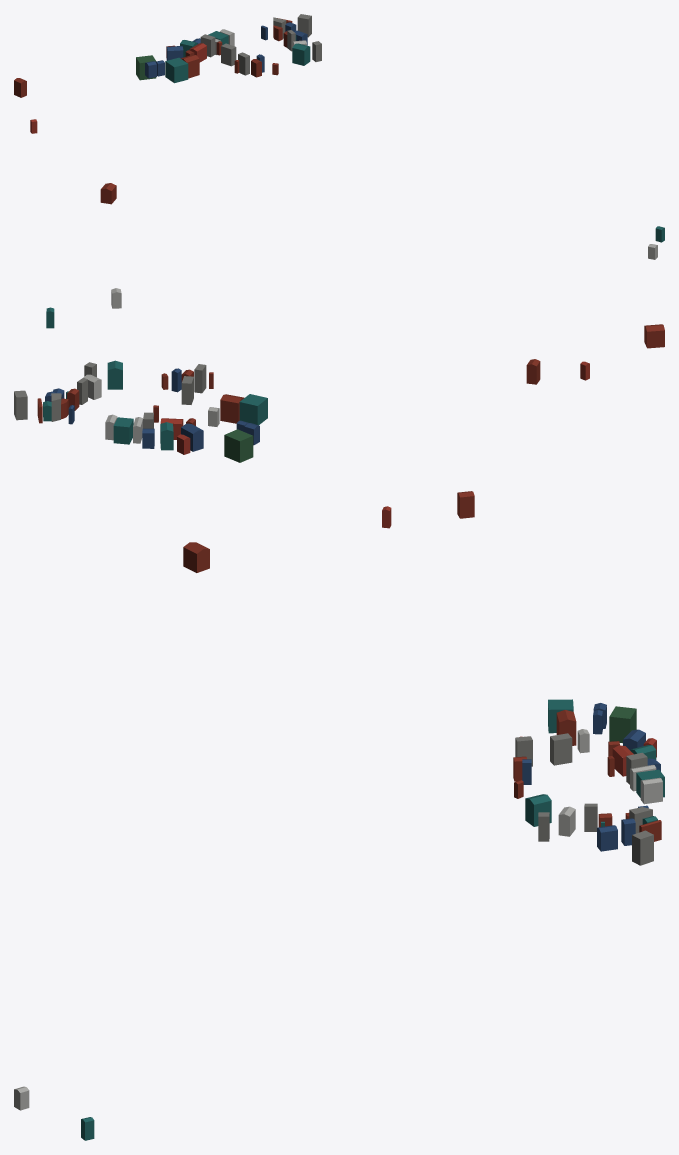
The model's file is near-15-27352-14863.e0876232.glb.
3 views of the same model, one above another, from view 1: azimuth 30°, elevation 25°; view 2: azimuth 150°, elevation 25°; view 3: azimuth 270°, elevation 25° (orthographic). The views are drawn at different scales.
Size of the model in its own units: 752 by 259 by 545.
